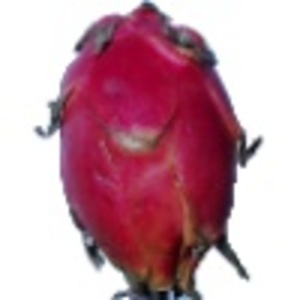pitaia: (33, 1, 262, 300)
